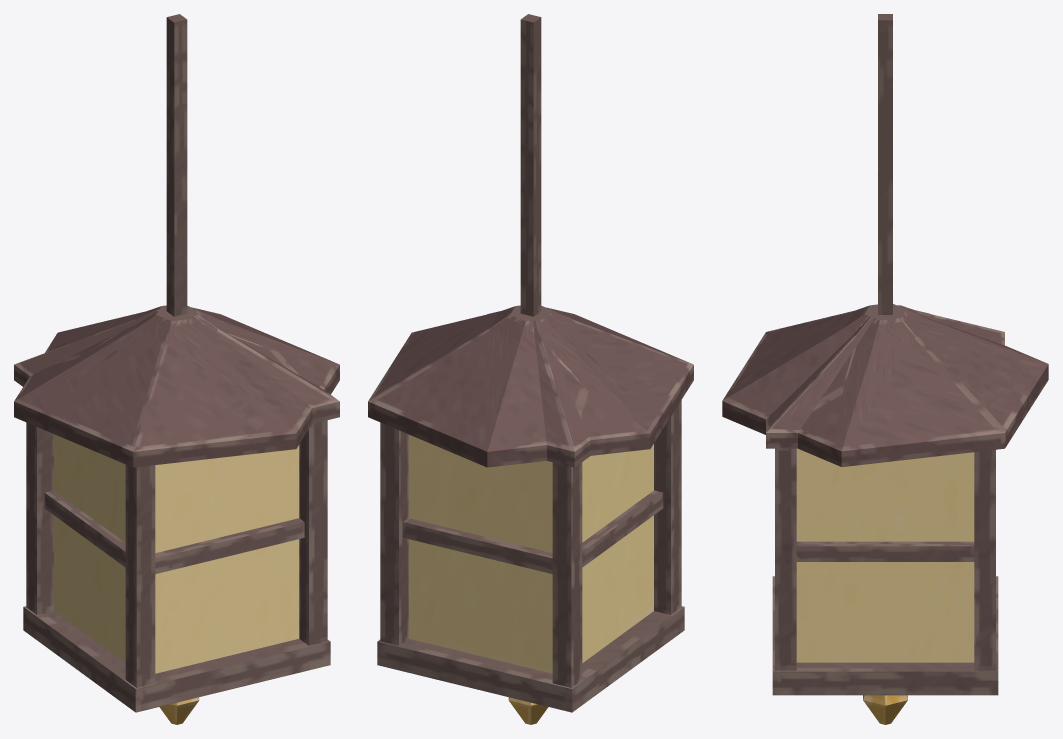
Rendered from lantern.bundle.fbx.
The picture shows the model from 3 angles, left to right: view 1: azimuth 30°, elevation 25°; view 2: azimuth 150°, elevation 25°; view 3: azimuth 270°, elevation 25°; orthographic projection.
Visible parts, largest first — view 1: lantern, lantern_low; view 2: lantern, lantern_low; view 3: lantern, lantern_low.
Boxes of the visible parts, left/top/right/bottom form: lantern: left=14, top=14, right=339, bottom=724; lantern_low: left=14, top=305, right=339, bottom=712; lantern: left=380, top=14, right=682, bottom=724; lantern_low: left=368, top=305, right=693, bottom=712; lantern: left=766, top=14, right=1004, bottom=724; lantern_low: left=722, top=304, right=1048, bottom=695.
Size of the model in its own units: 1.51 by 3.59 by 1.51.
Materials: 1 (1 with a texture image).
